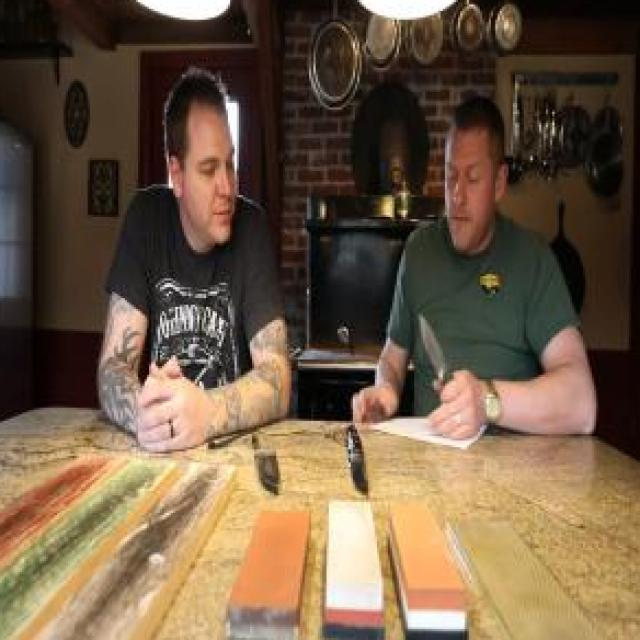knife: (410, 300, 479, 438)
